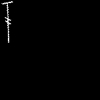treble_crochet: (3, 1, 11, 40)
